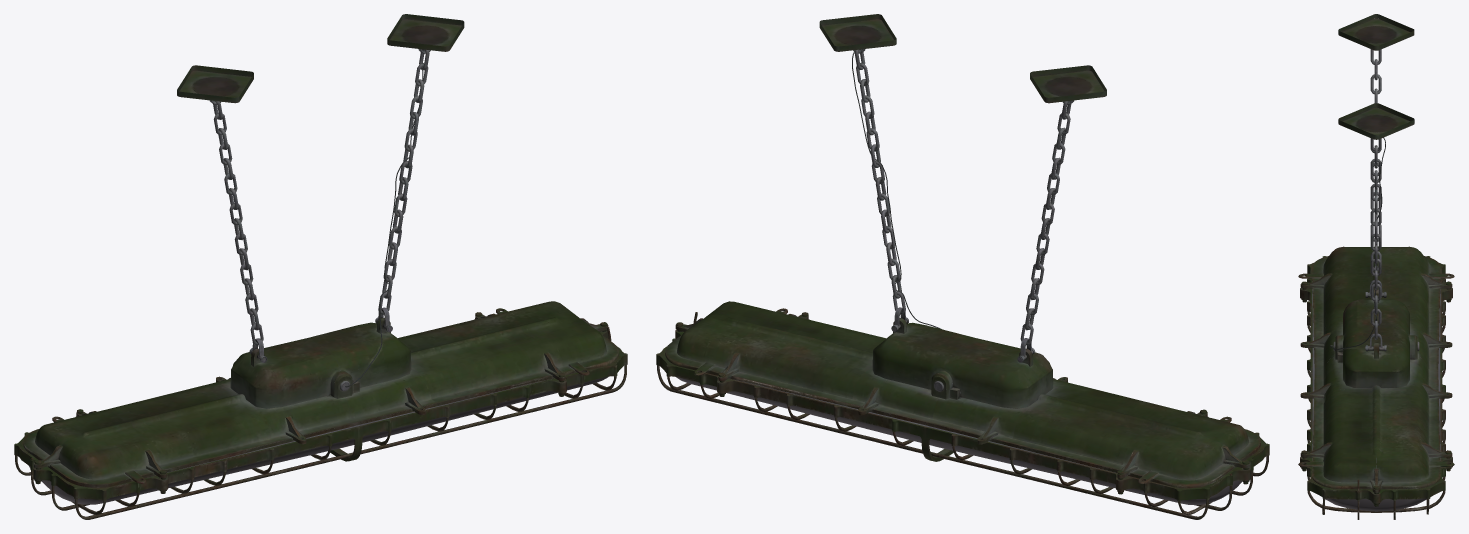
File: caged_hanging_light.glb
The picture shows the model from 3 angles, left to right: view 1: azimuth 30°, elevation 25°; view 2: azimuth 150°, elevation 25°; view 3: azimuth 270°, elevation 25°; orthographic projection. The views are drawn at different scales.
Visible parts, largest first — view 1: caged_hanging_light; view 2: caged_hanging_light; view 3: caged_hanging_light.
Boxes of the visible parts, x1,y1,x2,y2 form: caged_hanging_light: [14, 14, 627, 519]; caged_hanging_light: [656, 14, 1269, 519]; caged_hanging_light: [1298, 14, 1454, 519].
Bounding box in the file's own units: 1.16 × 0.7501 × 0.3149.
1 material, 1 textured.
